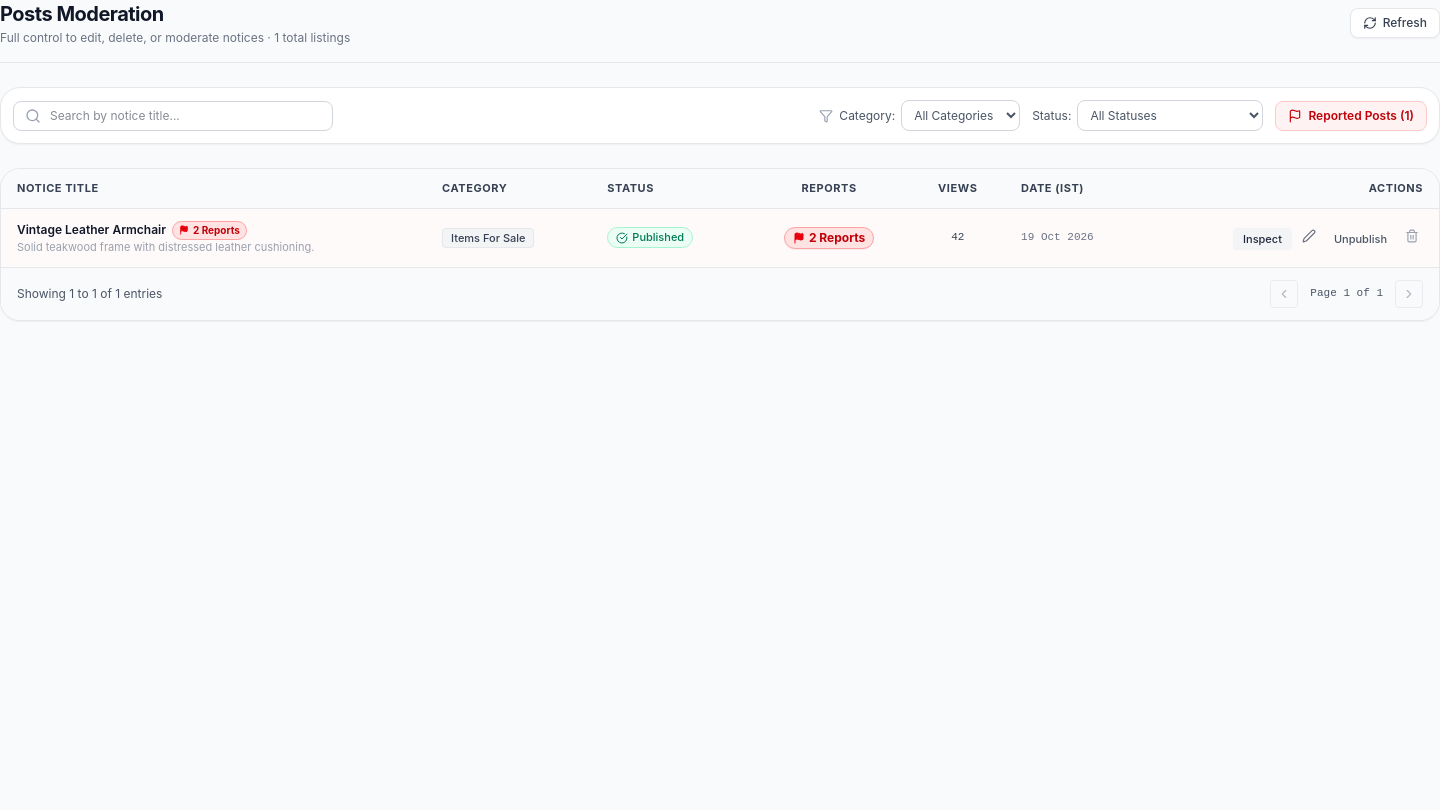
AuthorPosts Component › opens edit modal with current post values
Expected: the text "Vintage Leather Armchair" is shown, [17,222,166,238]
Click the button titled "Edit Notice" at (1309, 236), box [1298,225,1320,247]
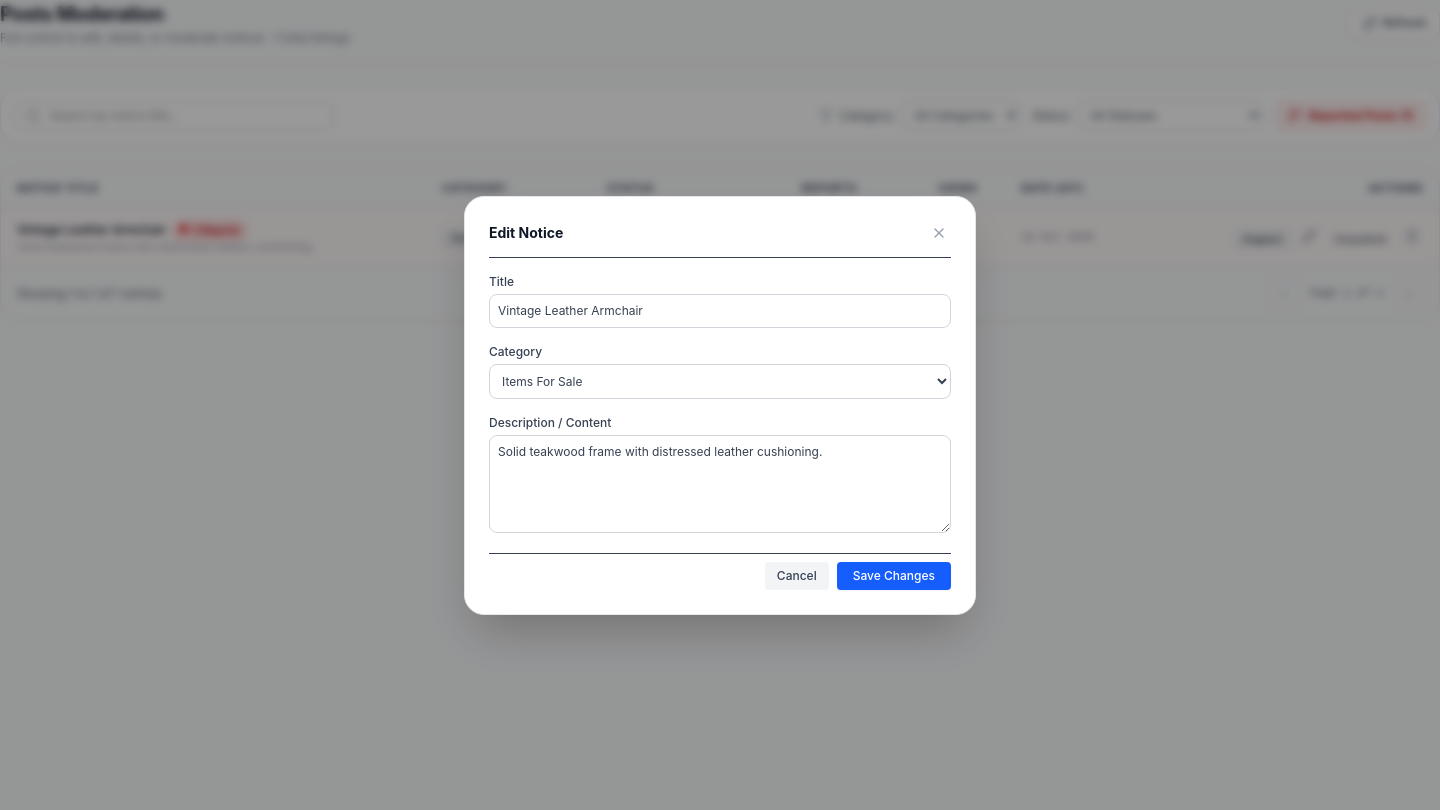
Result: the heading "Edit Notice" is shown at [489,222,563,242]
Result: the field showing "Vintage Leather Armchair" is shown at [489,294,951,328]
